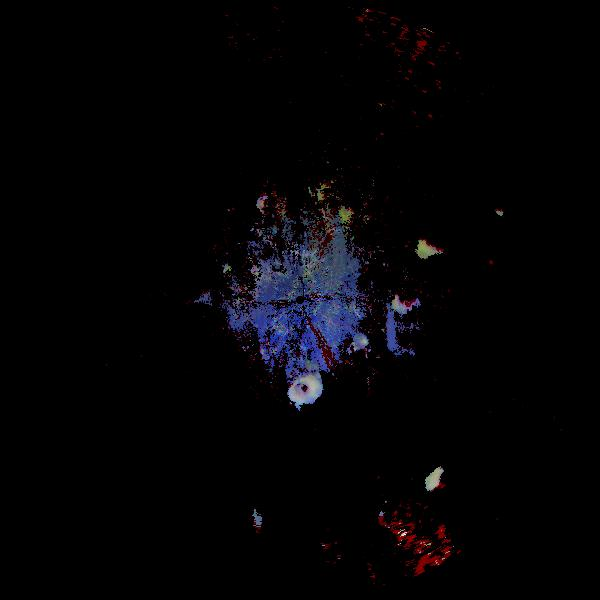roost: (398, 194, 470, 266), (413, 436, 479, 502), (275, 354, 332, 411), (379, 264, 433, 318), (371, 489, 416, 534), (342, 331, 372, 361)
